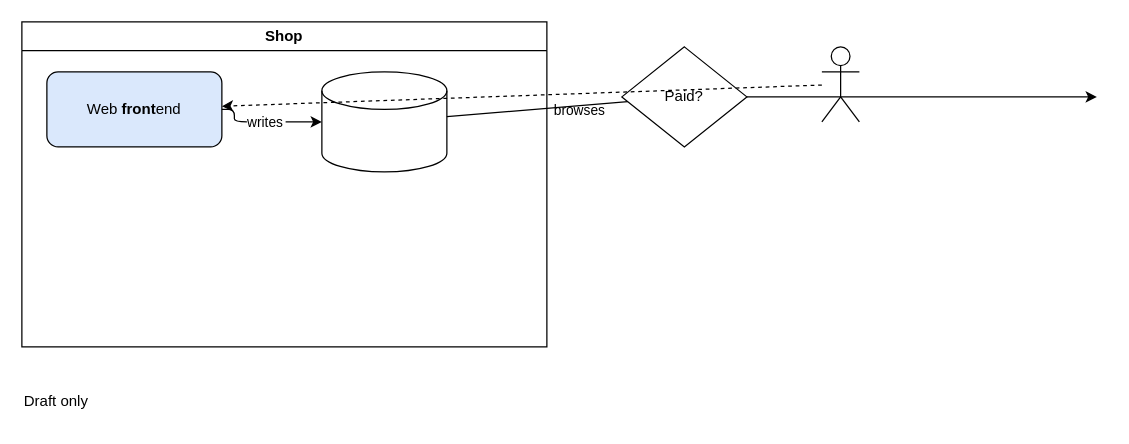
This 1129x444 diagram has some shape labels left out. Here are the shapes that lost their labels. From the top down, the centre of each, then its label:
the point at 840,84: Customer
the point at 384,121: Orders DB
